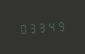four: (48, 19, 57, 32)
nine: (58, 18, 67, 32)
three: (28, 21, 37, 34), (38, 20, 47, 33)
zero: (18, 21, 27, 35)
